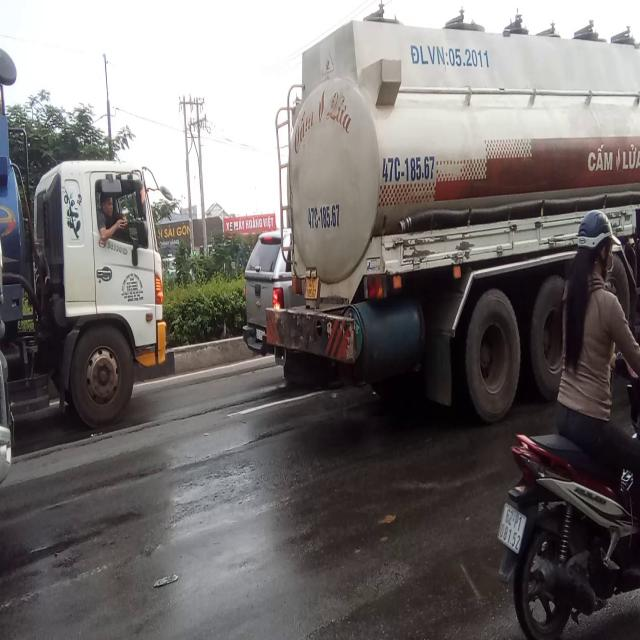bien_trang: (497, 498, 526, 553)
